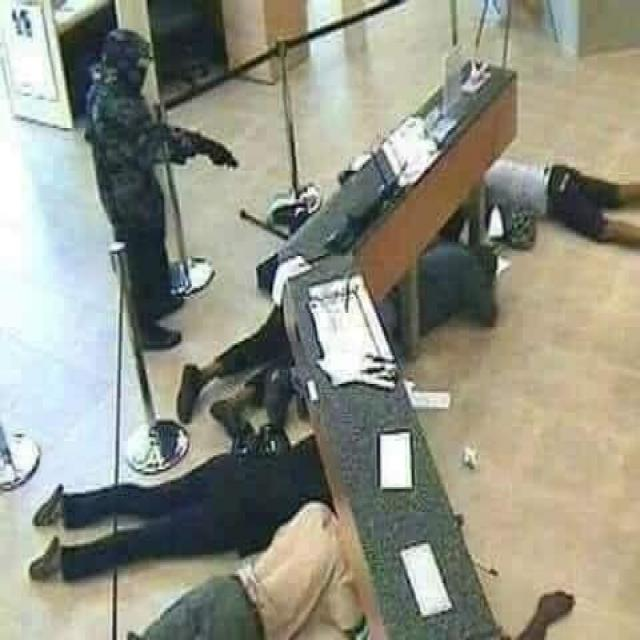gun: (210, 137, 240, 174)
